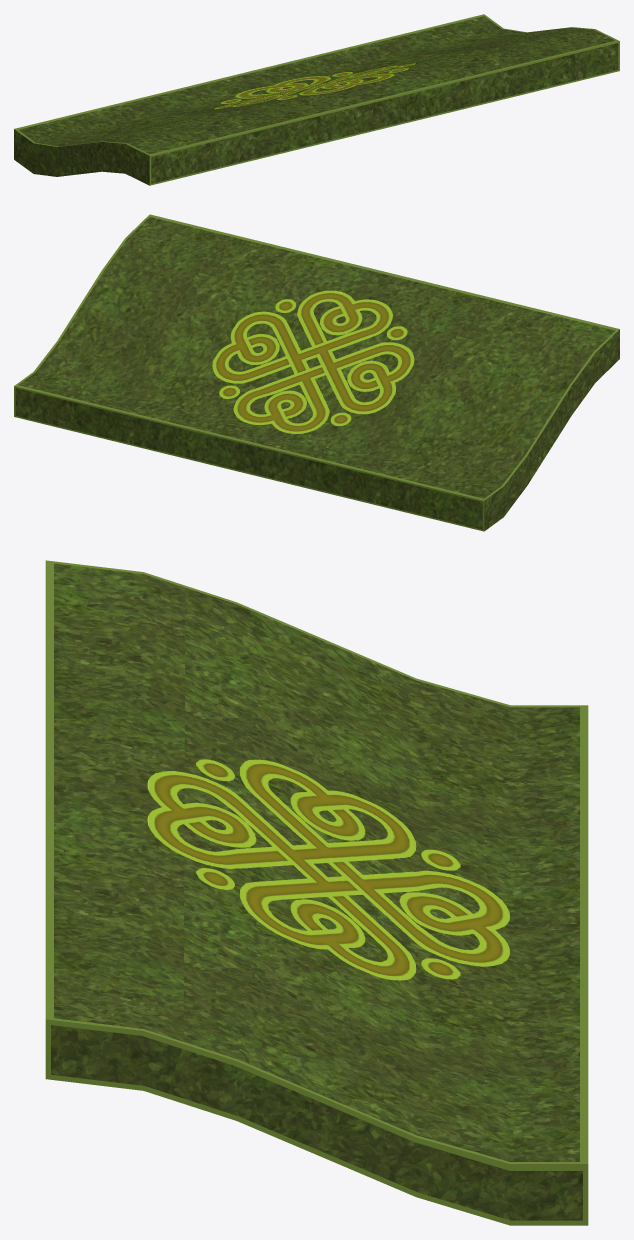
Rendered from mountain_low_slope.gltf.
3 renders of one model, top to bottom at view 1: azimuth 30°, elevation 25°; view 2: azimuth 150°, elevation 25°; view 3: azimuth 270°, elevation 25°, orthographic. The views are drawn at different scales.
Visible parts, largest first — view 1: mountain_low_slope_glb; view 2: mountain_low_slope_glb; view 3: mountain_low_slope_glb.
Part boxes in pixels (bbox=[...]): mountain_low_slope_glb: bbox=[14, 14, 619, 185]; mountain_low_slope_glb: bbox=[14, 214, 619, 531]; mountain_low_slope_glb: bbox=[45, 560, 588, 1225].
Size of what is drawn, in the model's own units: 4 by 0.8385 by 2.
2 materials, 2 textured.
